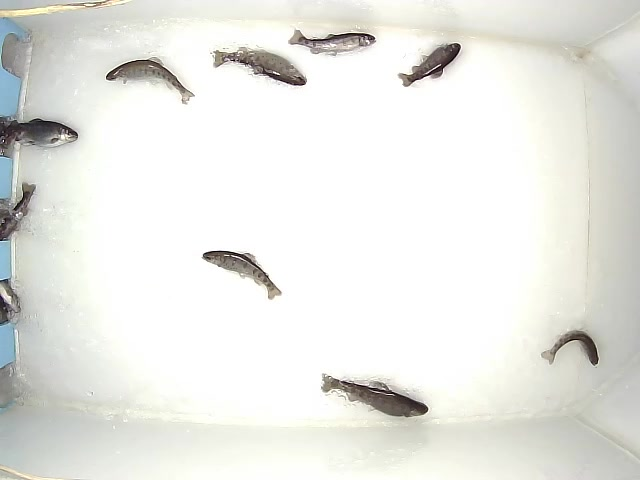fish: (320, 372, 429, 419), (104, 56, 196, 106), (201, 250, 283, 301), (209, 46, 308, 87), (396, 42, 461, 89), (286, 25, 376, 56), (1, 116, 80, 150), (540, 329, 600, 368)
